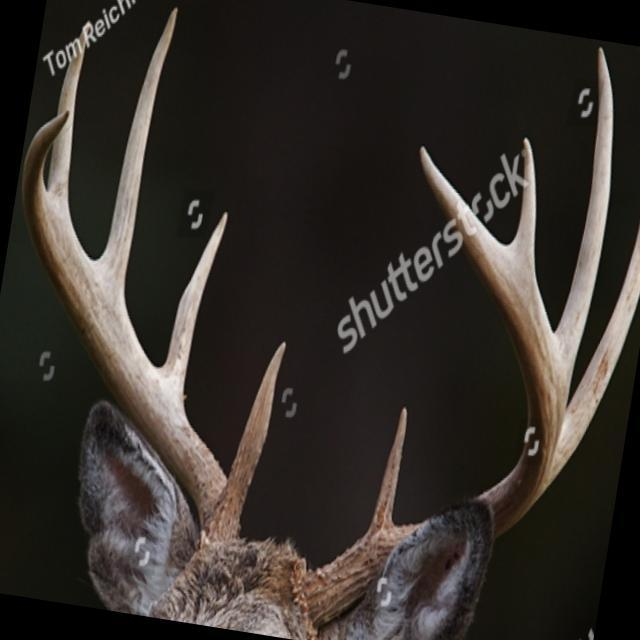L-G1: (369, 407, 408, 531)
L-G2: (544, 222, 640, 491)
L-G3: (554, 46, 614, 398)
L-G4: (510, 136, 536, 272)
R-G1: (220, 340, 286, 514)
R-G2: (158, 211, 228, 406)
R-G3: (96, 7, 178, 296)
R-G4: (47, 20, 90, 200)
